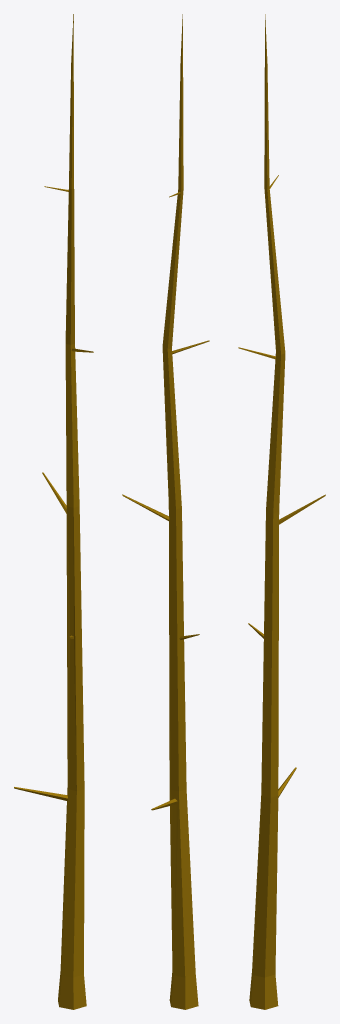
The model's file is Vegetation_Modular_Tree_Trunk_Fir_02.fbx.
3 views of the same model, side by side, from view 1: azimuth 90°, elevation 25°; view 2: azimuth 150°, elevation 25°; view 3: azimuth 330°, elevation 25° (orthographic).
Parts seen in each view (by area): view 1: Vegetation_Modular_Tree_Trunk_Fir_02; view 2: Vegetation_Modular_Tree_Trunk_Fir_02; view 3: Vegetation_Modular_Tree_Trunk_Fir_02.
Boxes of the visible parts, x1,y1,x2,y2 form: Vegetation_Modular_Tree_Trunk_Fir_02: (14,14,93,1009); Vegetation_Modular_Tree_Trunk_Fir_02: (122,14,209,1009); Vegetation_Modular_Tree_Trunk_Fir_02: (238,14,325,1009).
Bounding box in the file's own units: 992 × 14626 × 1070.
